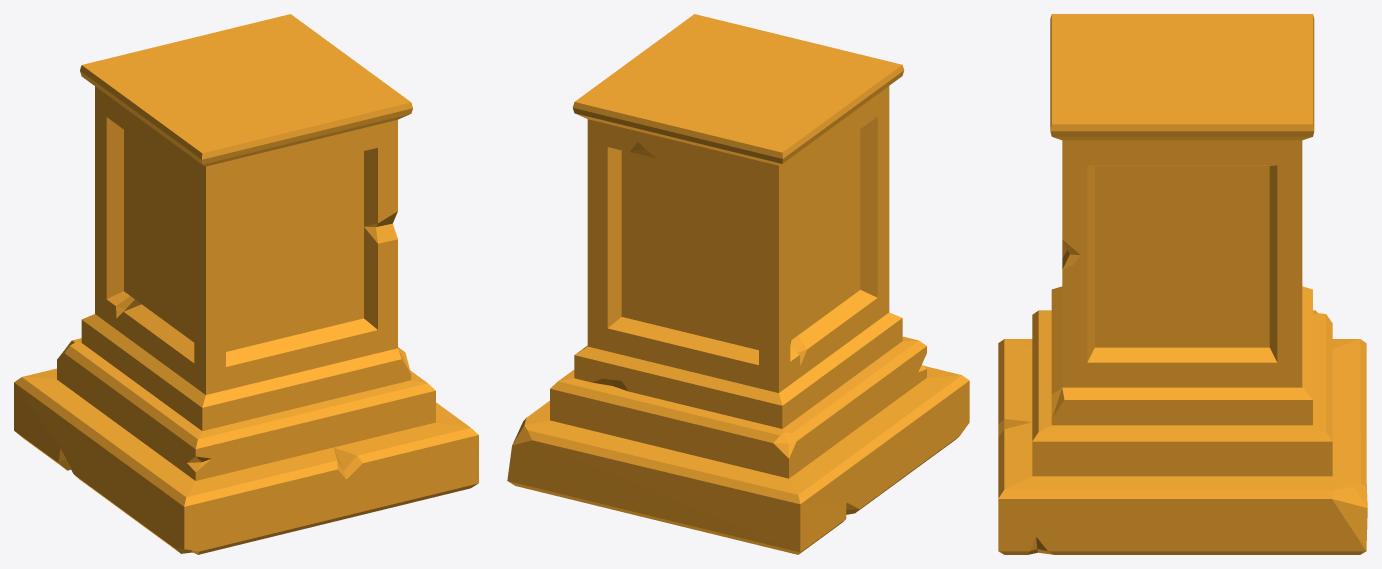
File: SM_Pedestal_Grand_E_Fantasy.fbx
3 views of the same model, side by side, from view 1: azimuth 30°, elevation 25°; view 2: azimuth 150°, elevation 25°; view 3: azimuth 270°, elevation 25° (orthographic). The views are drawn at different scales.
Visible parts, largest first — view 1: SM_Pedestal_Grand_Fantasy_E; view 2: SM_Pedestal_Grand_Fantasy_E; view 3: SM_Pedestal_Grand_Fantasy_E.
Boxes of the visible parts, x1,y1,x2,y2 form: SM_Pedestal_Grand_Fantasy_E: [14, 14, 478, 554]; SM_Pedestal_Grand_Fantasy_E: [507, 14, 969, 554]; SM_Pedestal_Grand_Fantasy_E: [998, 14, 1367, 554].
Bounding box in the file's own units: 1.02 × 1.25 × 1.02.
